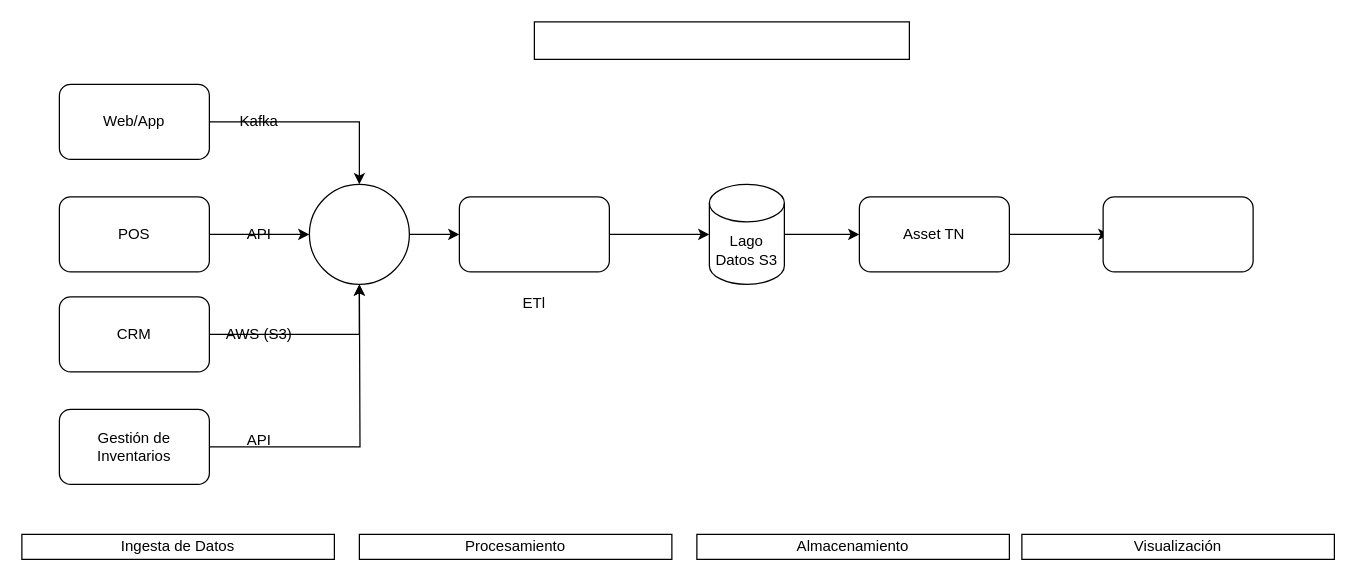
This 1356x581 diagram has some shape labels left out. The centre of each missing label's shape, as x and y in pixels:
Asset: point 533,234
Motor Ingestas: point 358,233
Power BI: point 1177,234
Yachay Shop: point 721,40
